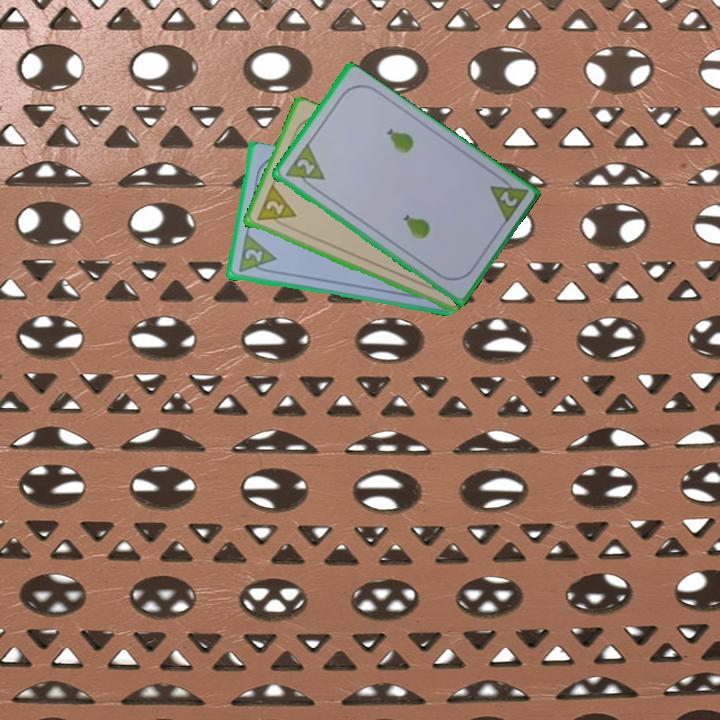2p: (485, 171, 530, 227), (253, 183, 298, 232), (292, 155, 317, 178), (241, 245, 265, 265)
